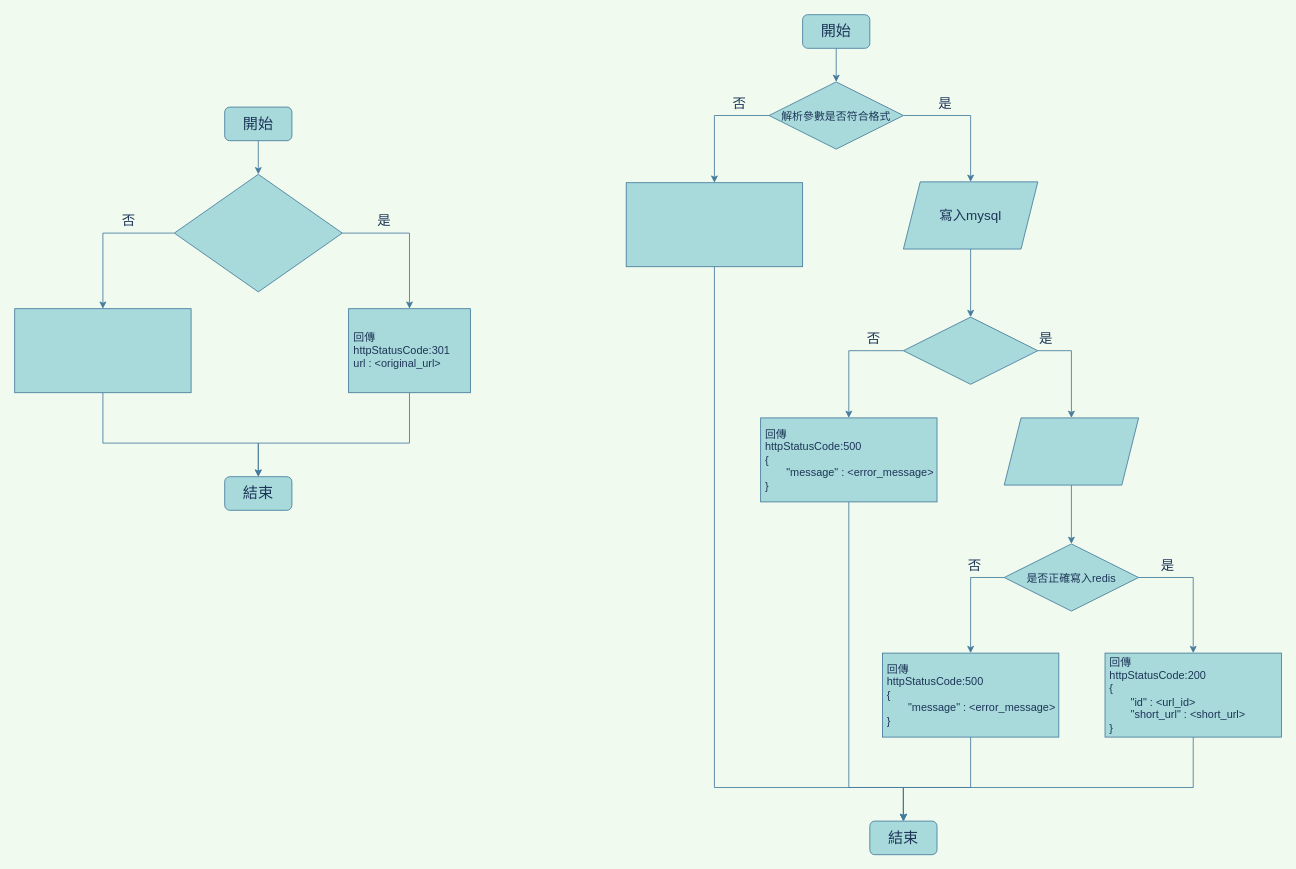
Some shapes in this 1296 by 869 pixel diagram are drawn without their labels. The shapes that lost their labels are listed below. From the top down, each one's centre as x and y in pixels, then its label:
the point at 257,232: <url_id>存在於redis
the point at 714,224: 回傳 httpStatusCode:400 { "message" : <error_message> }
the point at 102,350: 回傳 httpStatusCode:404 { "message" : <error_message> }
the point at 970,350: 是否正確寫入mysql
the point at 1071,451: 寫入redis
